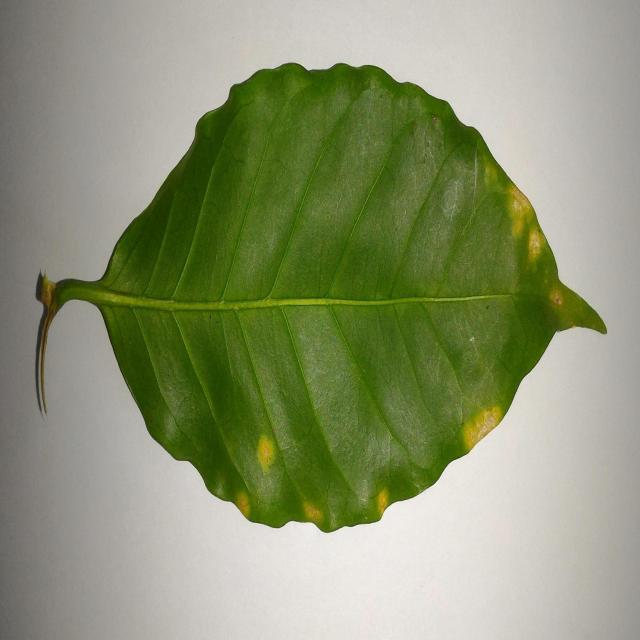rust: (504, 180, 539, 239), (462, 405, 504, 451), (257, 428, 282, 486), (528, 217, 546, 271), (234, 481, 257, 521), (301, 497, 328, 531), (373, 486, 391, 521)
